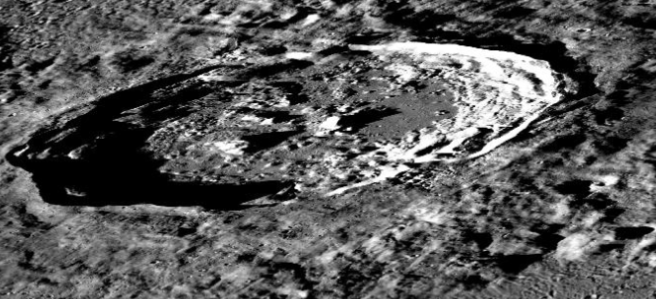crater: (5, 2, 635, 276)
